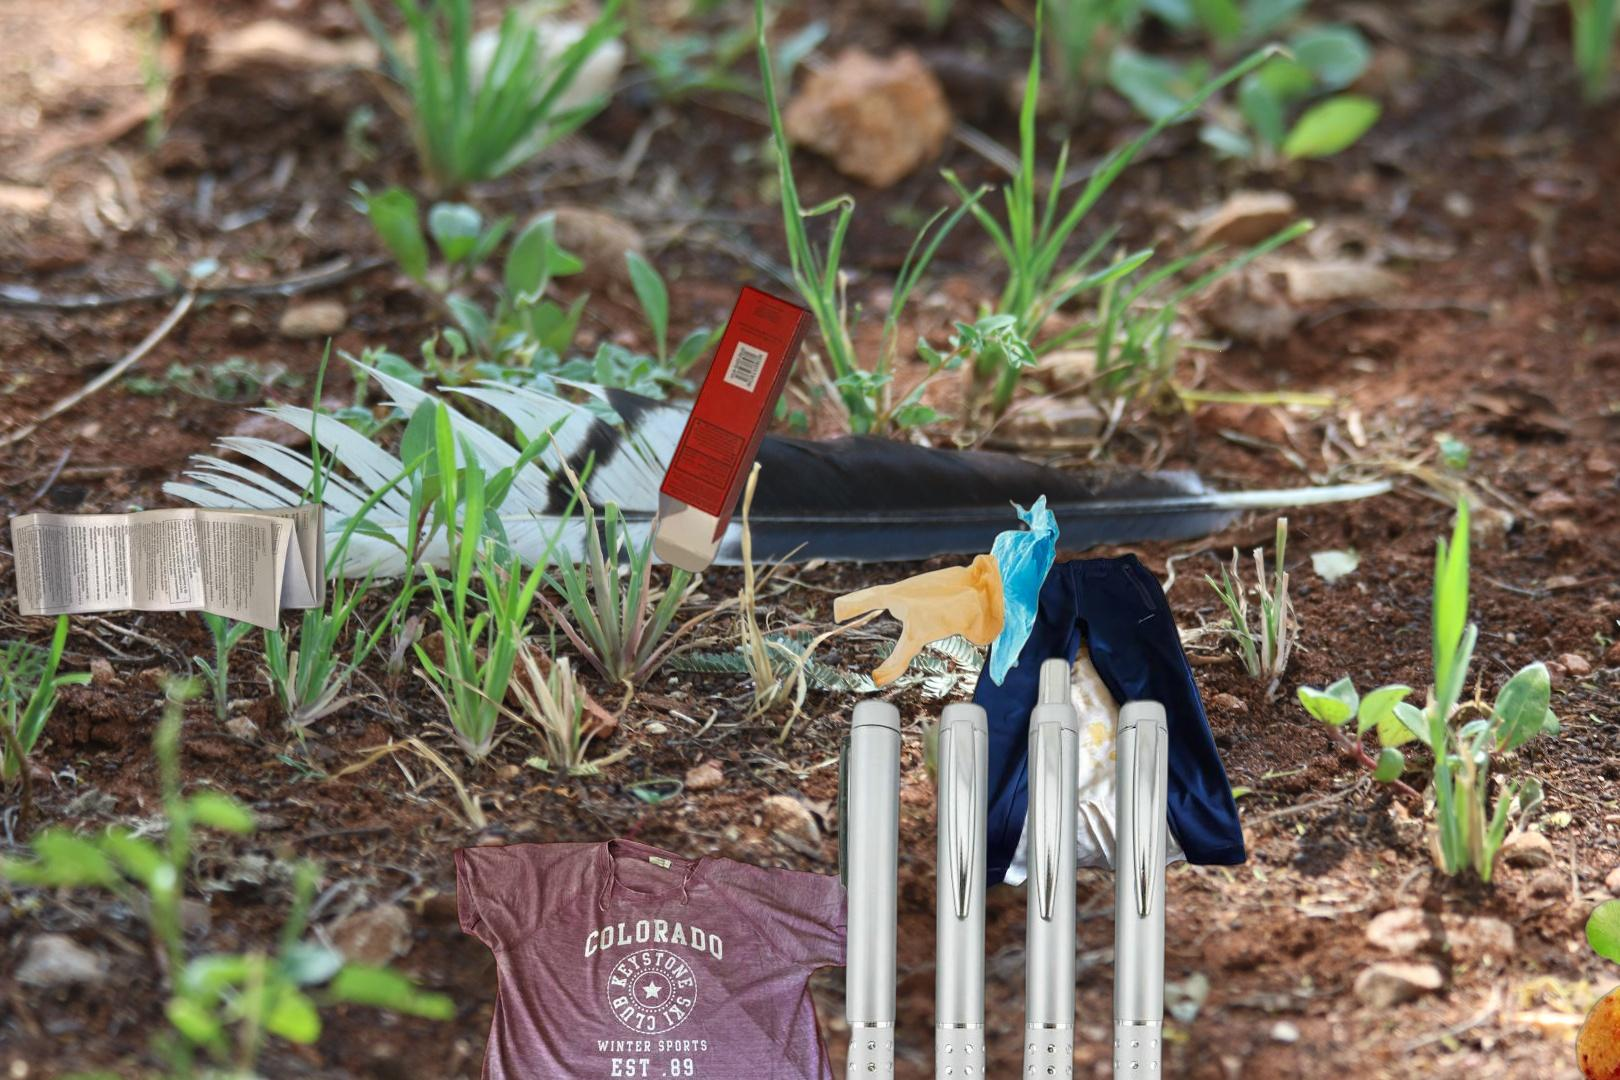biological: (1575, 880, 1620, 1080)
clothes: (937, 548, 1251, 896), (450, 835, 859, 1080)
paper: (648, 280, 818, 576), (6, 499, 331, 635)
penholder: (771, 636, 1172, 1080)
plastic-bag: (830, 491, 1062, 691)
